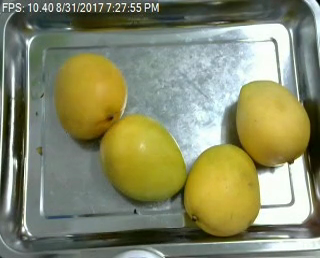Mango: (100, 113, 183, 200), (186, 146, 261, 233), (233, 82, 309, 166), (54, 55, 128, 140)
